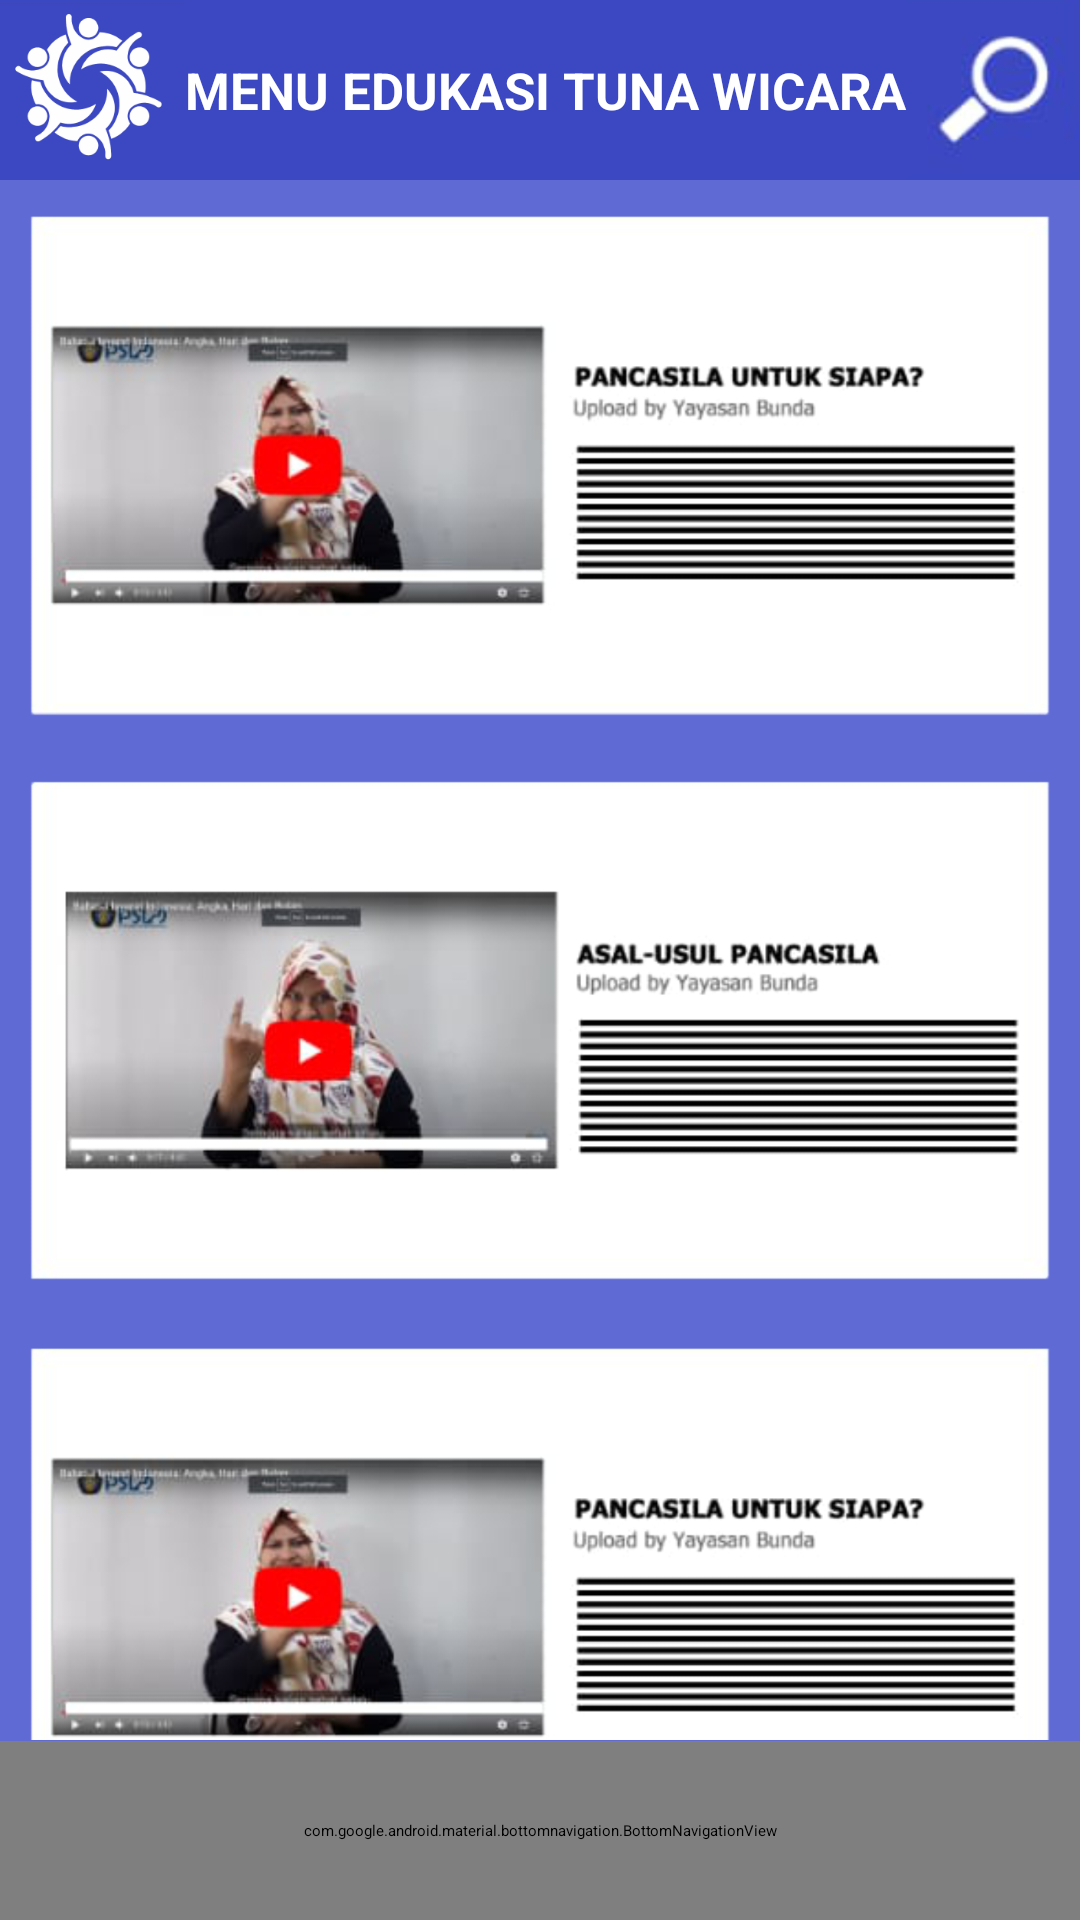

Icon bounding boxes for this 1080 × 1920 phone screenshot, format (x1, y1, x2, y2):
circle nav: (15, 14, 162, 160)
search nav: (939, 36, 1049, 143)
